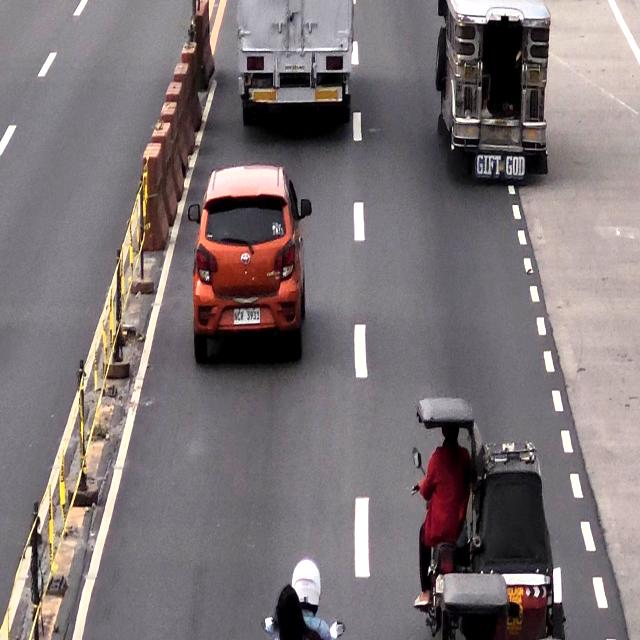Car: (191, 166, 306, 364)
Jeep: (437, 0, 547, 170)
License-Plate: (232, 306, 261, 326)
Tricycle: (415, 401, 567, 640)
Truck: (238, 0, 353, 123)
